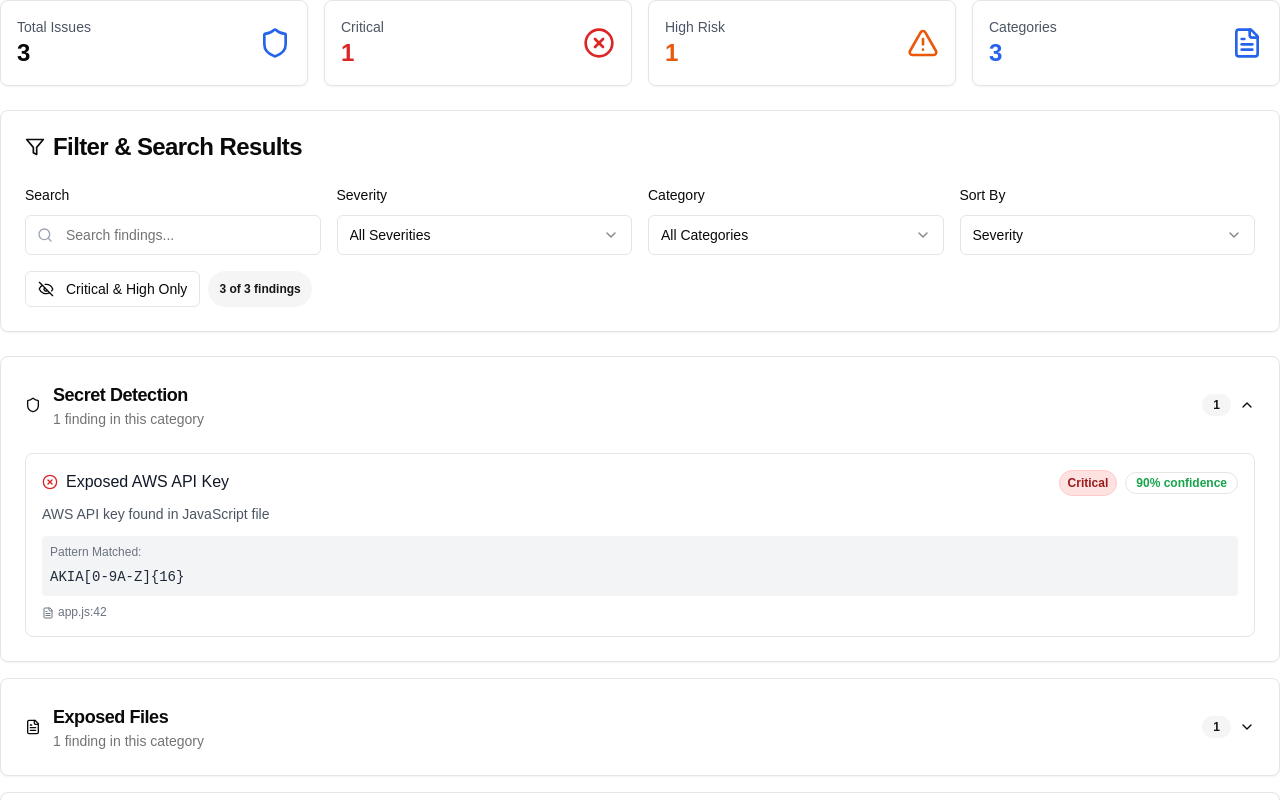
Test: EnhancedResultsDisplay › toggles "Critical & High Only" filter
This screenshot has width=1280, height=800.
Note: Click the "Critical & High Only" button
Click the button "Critical & High Only" at (113, 289), box [25, 271, 200, 307]
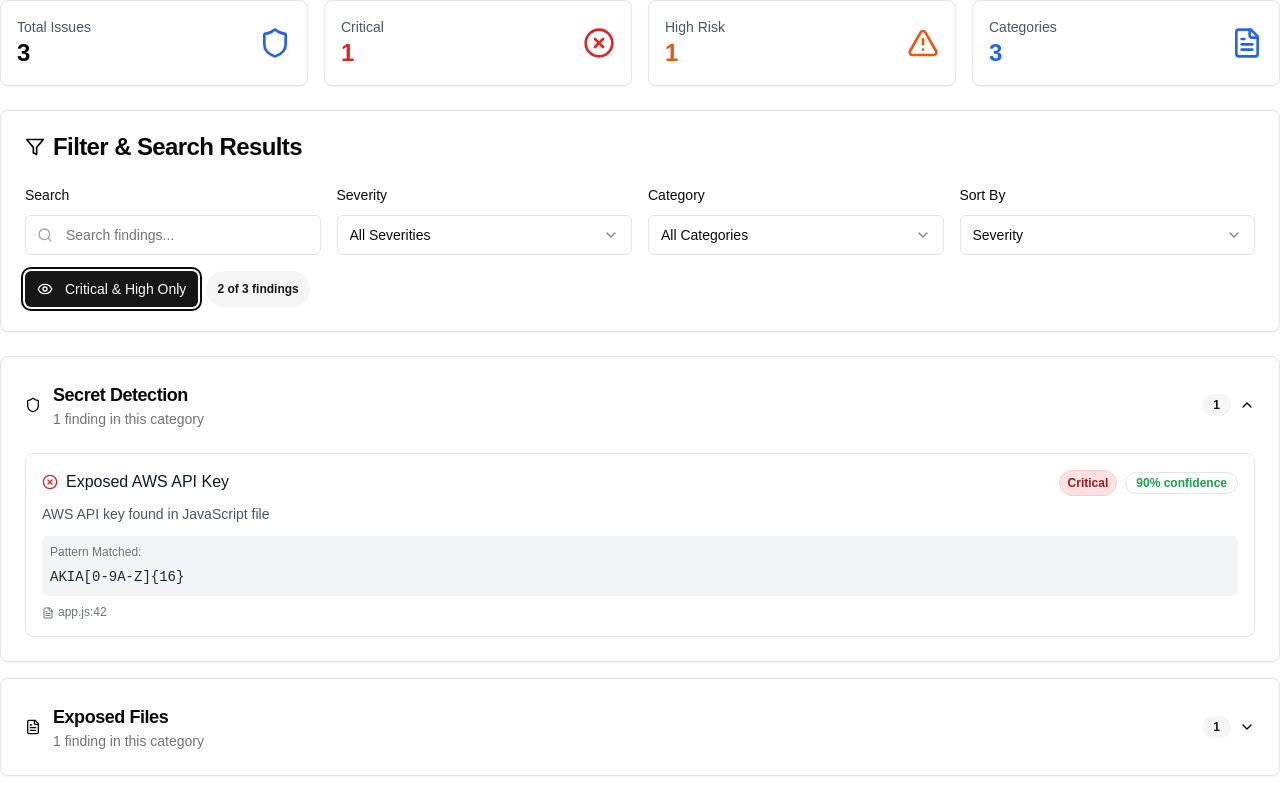
Check: the text "2 of 3 findings" is shown, box [206, 271, 310, 307]
